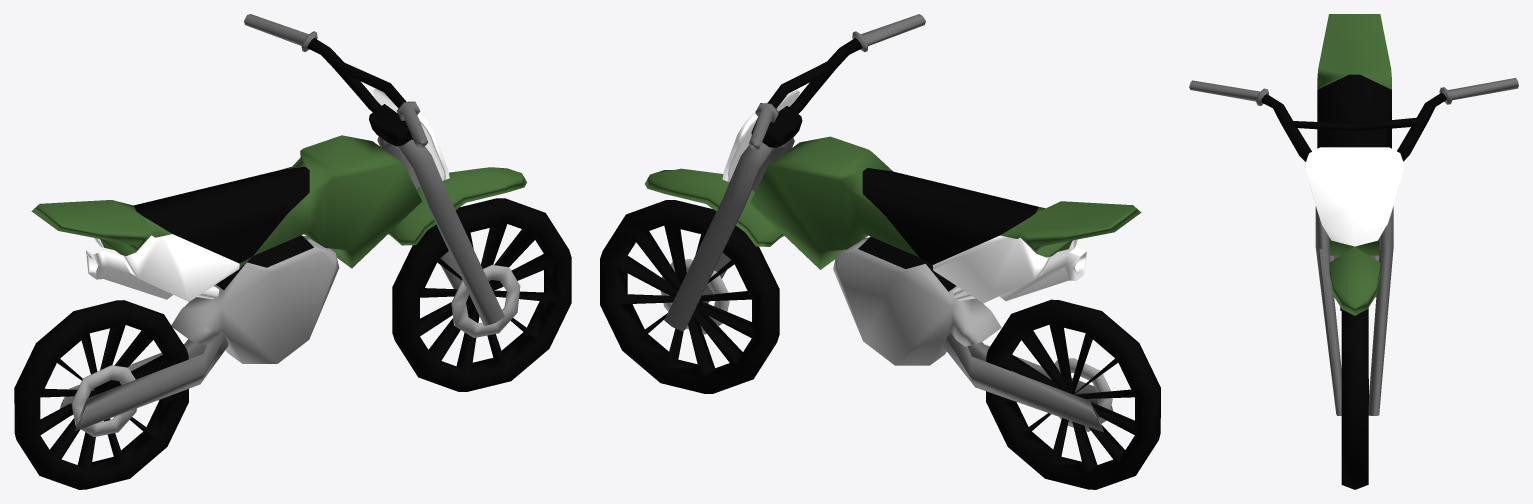
The model's file is DirtBike250ccDarkGreen.glb.
3 views of the same model, side by side, from view 1: azimuth 30°, elevation 25°; view 2: azimuth 150°, elevation 25°; view 3: azimuth 270°, elevation 25° (orthographic). The views are drawn at different scales.
Visible parts, largest first — view 1: DirtBike250ccDarkGreen; view 2: DirtBike250ccDarkGreen; view 3: DirtBike250ccDarkGreen.
Boxes of the visible parts, box(x1,y1,x2,y2) form: DirtBike250ccDarkGreen: box(14, 14, 571, 489); DirtBike250ccDarkGreen: box(600, 14, 1160, 489); DirtBike250ccDarkGreen: box(1189, 14, 1518, 489).
Size of the model in its own units: 2.46 by 1.49 by 1.33.
1 material, 1 textured.
